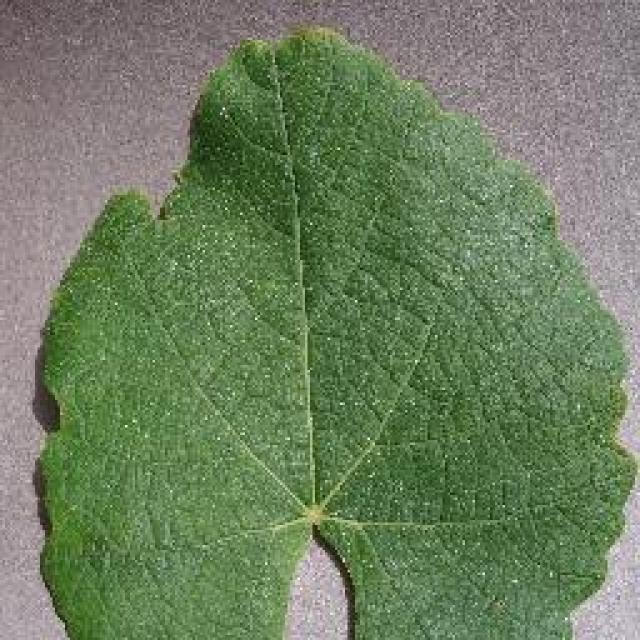Grape___healthy: (40, 28, 632, 638)
